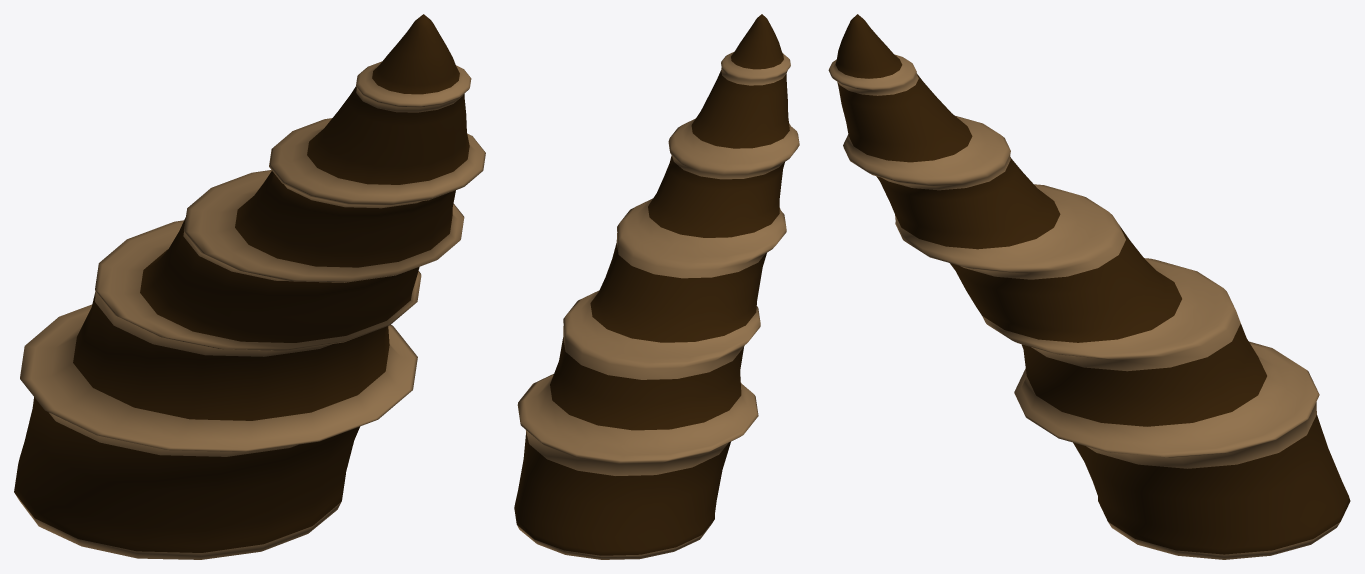
3 views of the same model, side by side, from view 1: azimuth 30°, elevation 25°; view 2: azimuth 150°, elevation 25°; view 3: azimuth 270°, elevation 25° (orthographic). The views are drawn at different scales.
Visible parts, largest first — view 1: 円錐; view 2: 円錐; view 3: 円錐.
Boxes of the visible parts, box(x1,y1,x2,y2) form: 円錐: box(14, 14, 485, 559); 円錐: box(514, 14, 799, 559); 円錐: box(828, 14, 1350, 559).
Size of the model in its own units: 310 by 570 by 535.
